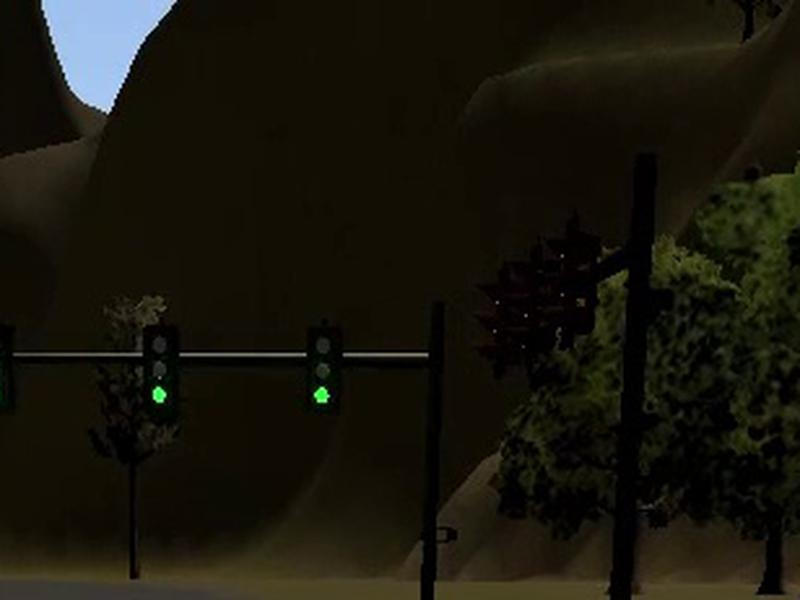Green: (142, 323, 178, 418), (307, 325, 342, 415)
